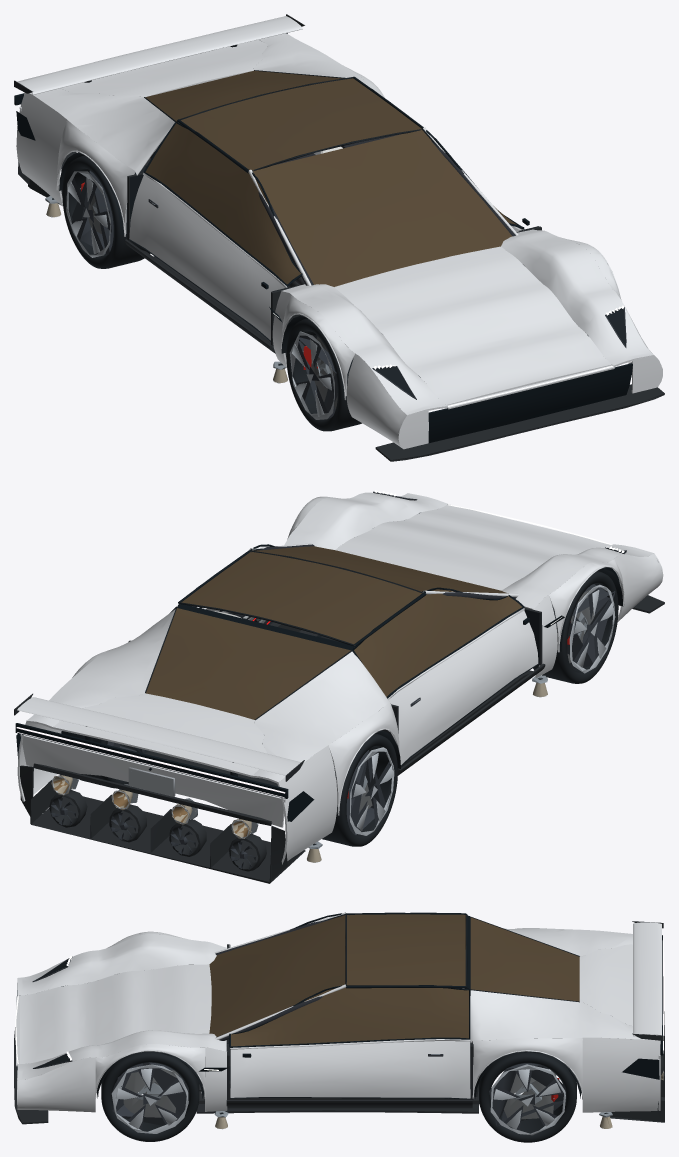
The model's file is tesla-roadster-2026.lod1.glb.
The picture shows the model from 3 angles, top to bottom: view 1: azimuth 30°, elevation 25°; view 2: azimuth 150°, elevation 25°; view 3: azimuth 270°, elevation 25°; orthographic projection. The views are drawn at different scales.
Visible parts, largest first — view 1: body:paint, body:glass, body:carbon, removable-roof:glass, butterfly-door-right:paint, butterfly-door-right:glass, active-rear-wing:paint, rear-right-steer-roll:titanium, rear-right-steer-roll:rubber, front-right-steer-roll:titanium, front-right-steer-roll:rubber, removable-roof:carbon (+1 smaller); view 2: body:paint, body:carbon, body:glass, removable-roof:glass, butterfly-door-right:paint, butterfly-door-right:glass, active-rear-wing:paint, front-right-steer-roll:titanium, body:titanium, rear-right-steer-roll:titanium, rear-right-steer-roll:rubber, front-right-steer-roll:rubber (+2 smaller); view 3: body:paint, body:glass, butterfly-door-left:paint, butterfly-door-left:glass, body:carbon, removable-roof:glass, front-left-steer-roll:titanium, rear-left-steer-roll:titanium, active-rear-wing:paint, rear-left-steer-roll:rubber, front-left-steer-roll:rubber, removable-roof:carbon (+2 smaller).
Part boxes in pixels (bbox=[...]): body:paint: bbox=[16, 33, 662, 449]; body:glass: bbox=[145, 70, 512, 286]; body:carbon: bbox=[14, 33, 664, 461]; removable-roof:glass: bbox=[181, 78, 421, 170]; butterfly-door-right:paint: bbox=[129, 121, 302, 341]; butterfly-door-right:glass: bbox=[145, 123, 301, 284]; active-rear-wing:paint: bbox=[14, 14, 304, 94]; rear-right-steer-roll:titanium: bbox=[66, 170, 113, 257]; rear-right-steer-roll:rubber: bbox=[62, 155, 150, 268]; front-right-steer-roll:titanium: bbox=[289, 331, 337, 419]; front-right-steer-roll:rubber: bbox=[286, 318, 361, 431]; removable-roof:carbon: bbox=[177, 76, 423, 173]; body:paint: bbox=[17, 492, 663, 864]; body:carbon: bbox=[15, 491, 664, 883]; body:glass: bbox=[146, 546, 508, 719]; removable-roof:glass: bbox=[181, 551, 421, 645]; butterfly-door-right:paint: bbox=[352, 587, 539, 766]; butterfly-door-right:glass: bbox=[354, 589, 521, 696]; active-rear-wing:paint: bbox=[14, 693, 304, 781]; front-right-steer-roll:titanium: bbox=[567, 584, 615, 673]; body:titanium: bbox=[48, 675, 547, 862]; rear-right-steer-roll:titanium: bbox=[346, 747, 394, 835]; rear-right-steer-roll:rubber: bbox=[322, 733, 397, 846]; front-right-steer-roll:rubber: bbox=[533, 571, 618, 683]; body:paint: bbox=[16, 912, 660, 1112]; body:glass: bbox=[209, 915, 579, 1036]; butterfly-door-left:paint: bbox=[229, 985, 470, 1099]; butterfly-door-left:glass: bbox=[231, 987, 468, 1046]; body:carbon: bbox=[14, 913, 664, 1124]; removable-roof:glass: bbox=[346, 914, 465, 985]; front-left-steer-roll:titanium: bbox=[111, 1062, 188, 1133]; rear-left-steer-roll:titanium: bbox=[489, 1063, 566, 1135]; active-rear-wing:paint: bbox=[632, 921, 663, 1040]; rear-left-steer-roll:rubber: bbox=[479, 1052, 576, 1142]; front-left-steer-roll:rubber: bbox=[101, 1052, 199, 1141]; removable-roof:carbon: bbox=[345, 912, 467, 988].
Size of the model in its own units: 2.01 by 1.1 by 4.65.
